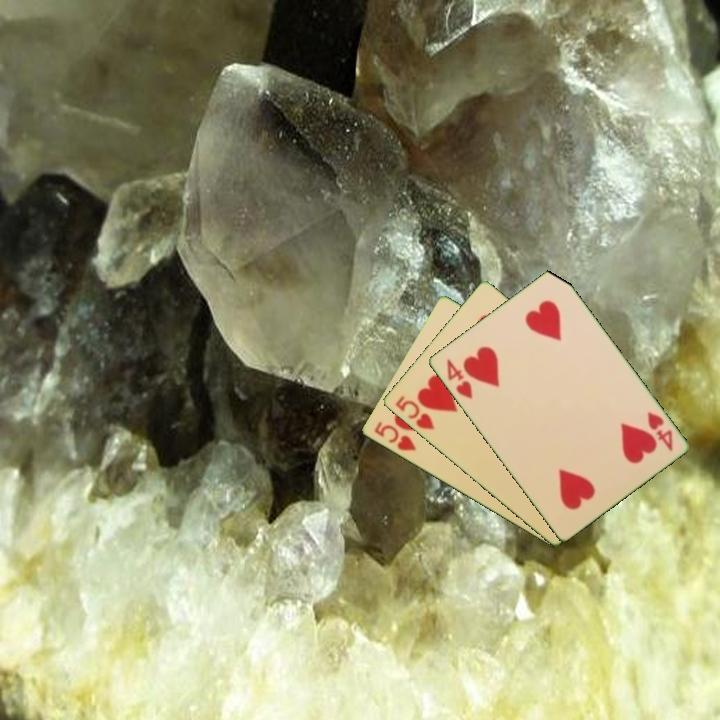4h: (443, 355, 475, 402), (643, 408, 675, 454)
5h: (391, 392, 437, 433), (370, 418, 419, 454)
